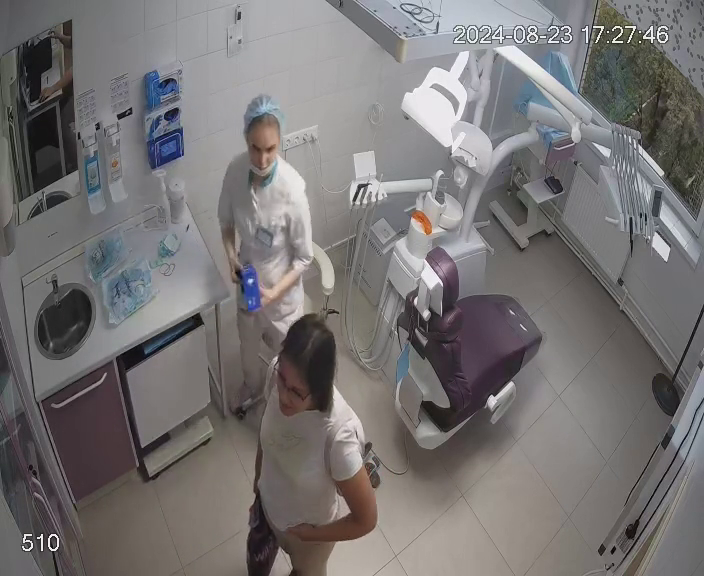Empty: (376, 251, 544, 448)
